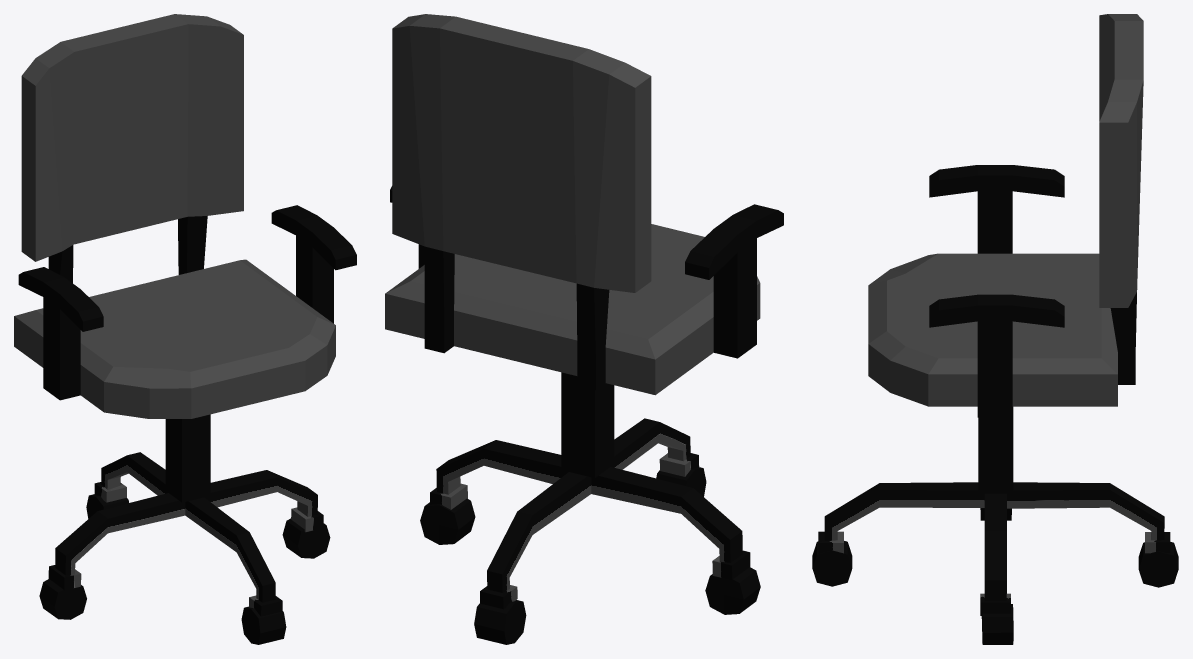
The model's file is SILLA.fbx.
3 views of the same model, side by side, from view 1: azimuth 30°, elevation 25°; view 2: azimuth 150°, elevation 25°; view 3: azimuth 270°, elevation 25° (orthographic). The views are drawn at different scales.
Visible parts, largest first — view 1: Cube; view 2: Cube; view 3: Cube.
Boxes of the visible parts, x1,y1,x2,y2 form: Cube: (14,14,356,644); Cube: (385,14,783,644); Cube: (812,14,1178,644).
Size of the model in its own units: 341 by 592 by 369.
1 material, 1 textured.
